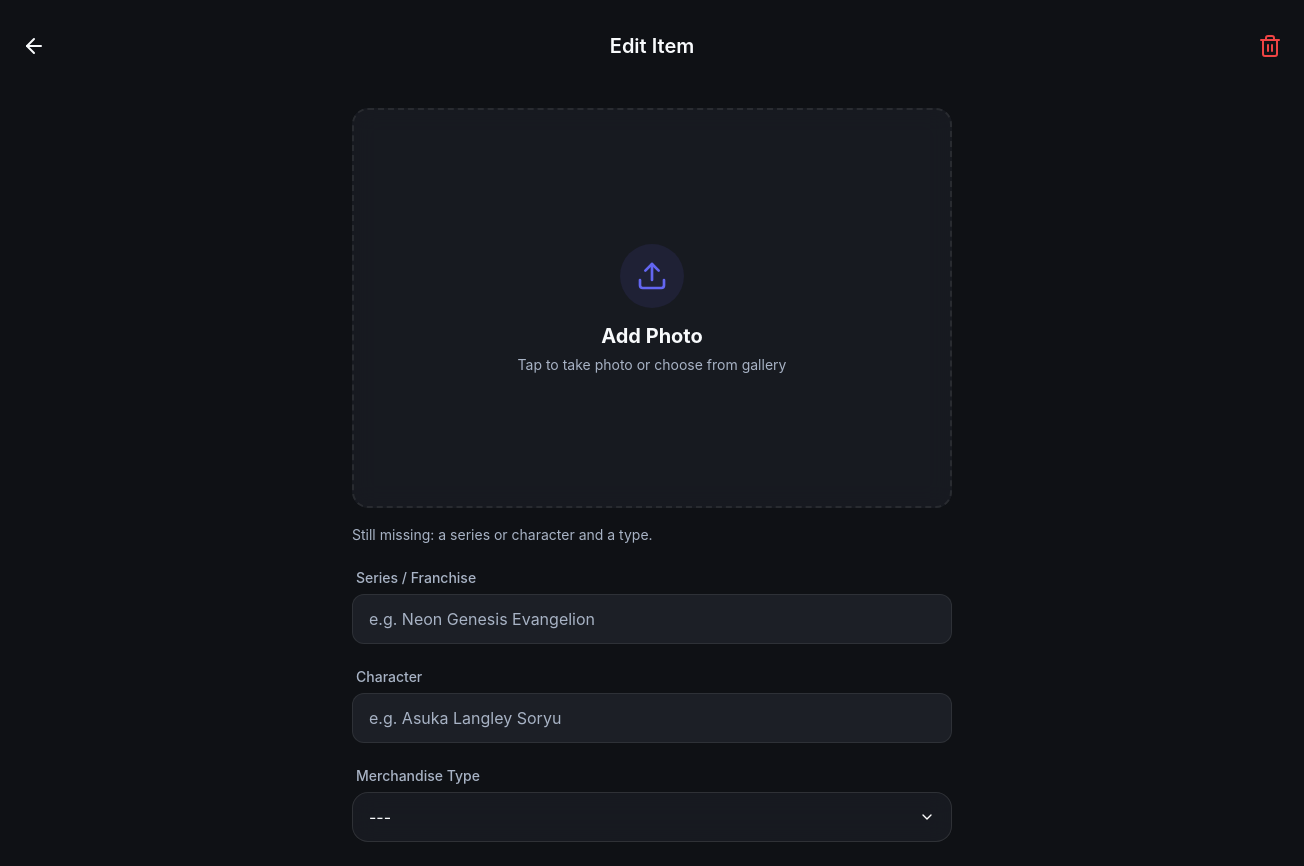
Test: AddEditItem smoke flows › shows what an unfinished item still lacks while it is edited
Expected: the text "Still missing: a series or character and a type." is shown, 352,526 -> 653,543
Type "Asuka" into the dropdown labelled "Character" at [652, 718], box 365,704 -> 939,732
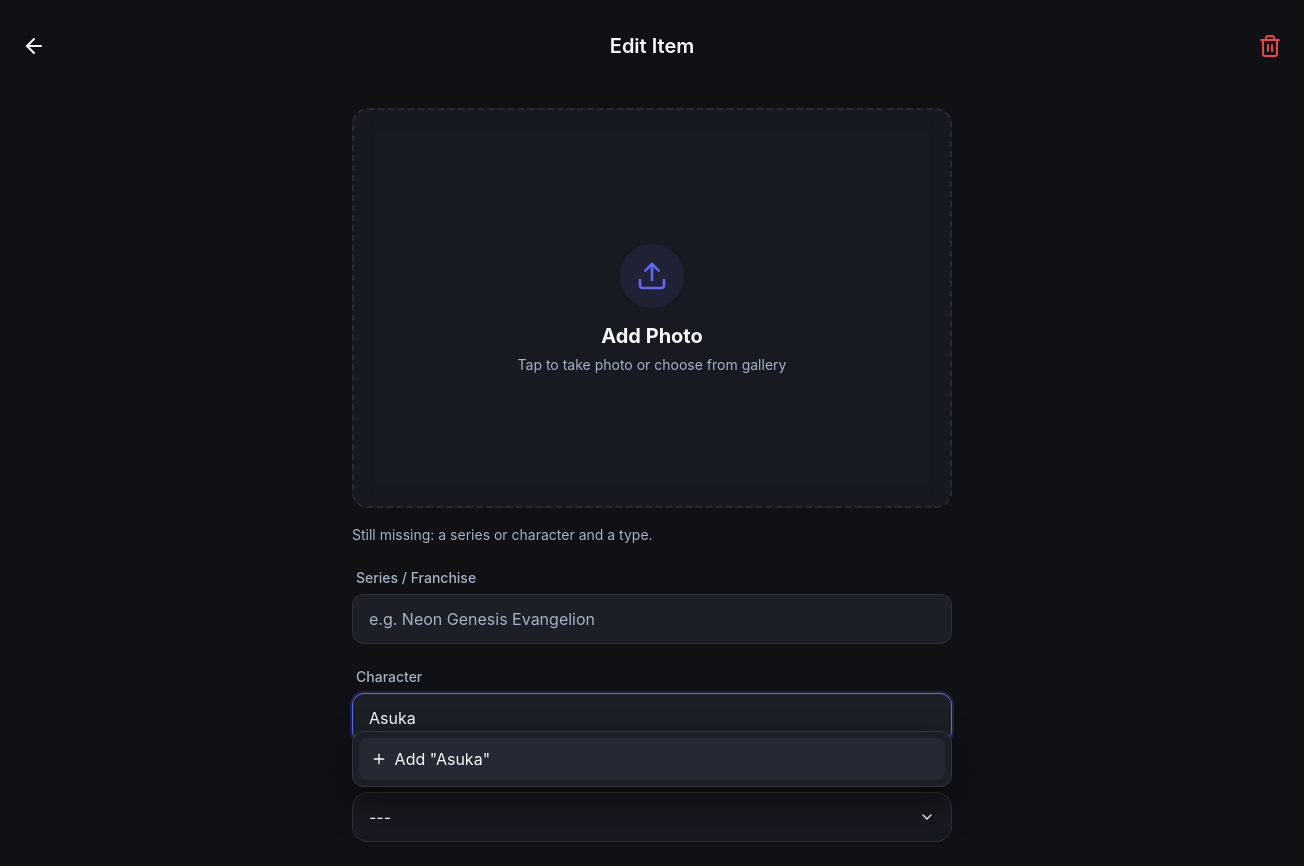
Click the option "Add \"Asuka\"" at [442, 759], box 359,738 -> 945,780
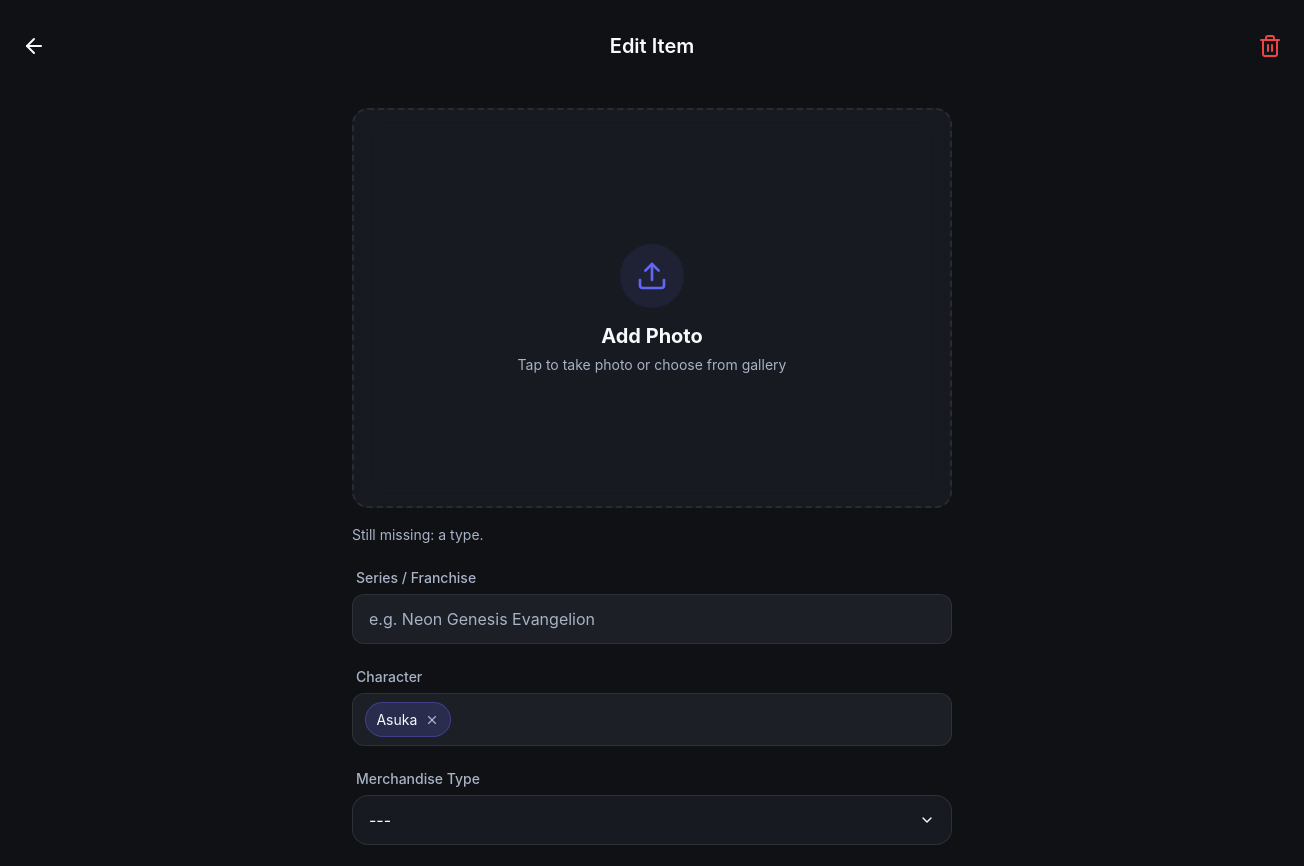
Now the text "Still missing: a type." is shown, box 352,526 -> 484,543
Select "figure" in the dropdown labelled "Merchandise Type" at [652, 820], box 353,796 -> 951,844
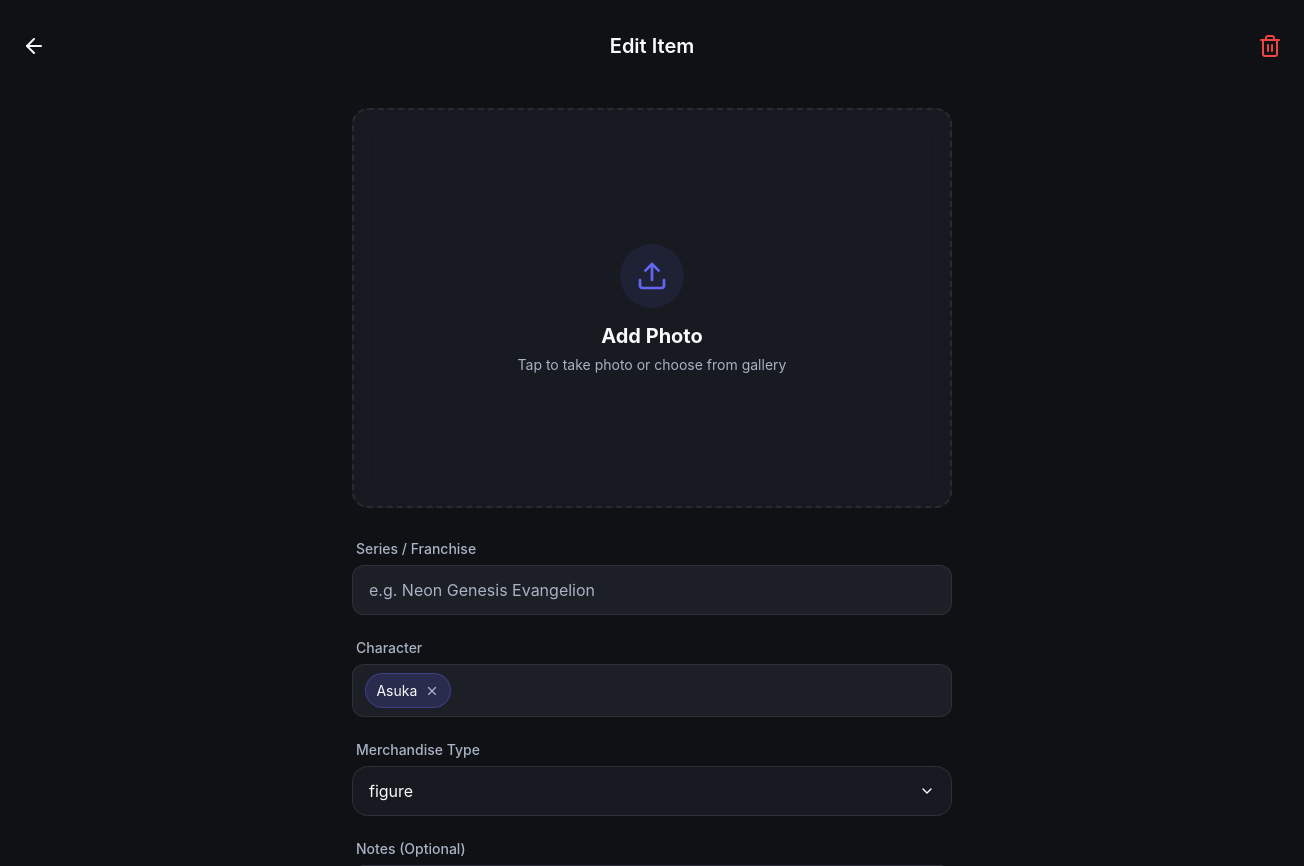
Now the text "Still missing" is gone
